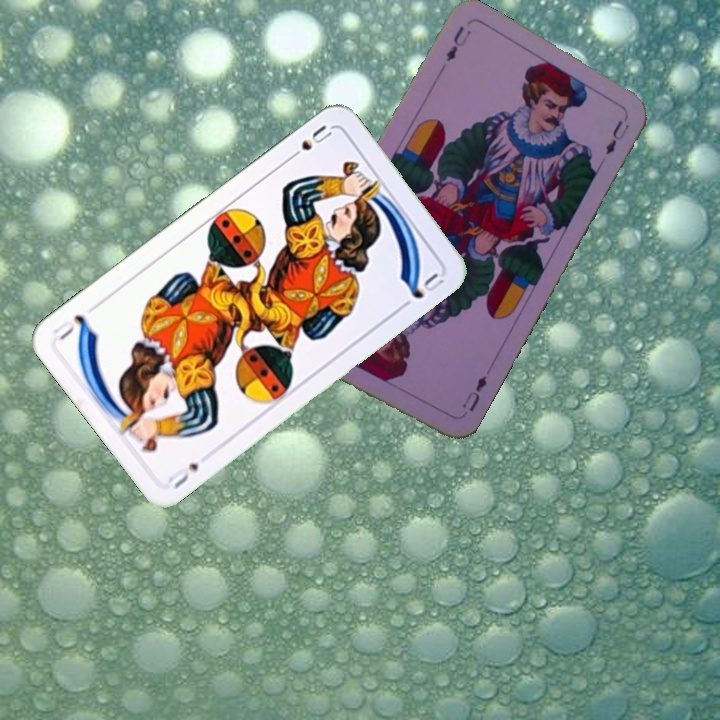EU: (458, 371, 490, 415), (442, 21, 474, 65)
SU: (284, 120, 335, 164), (166, 458, 202, 492)
